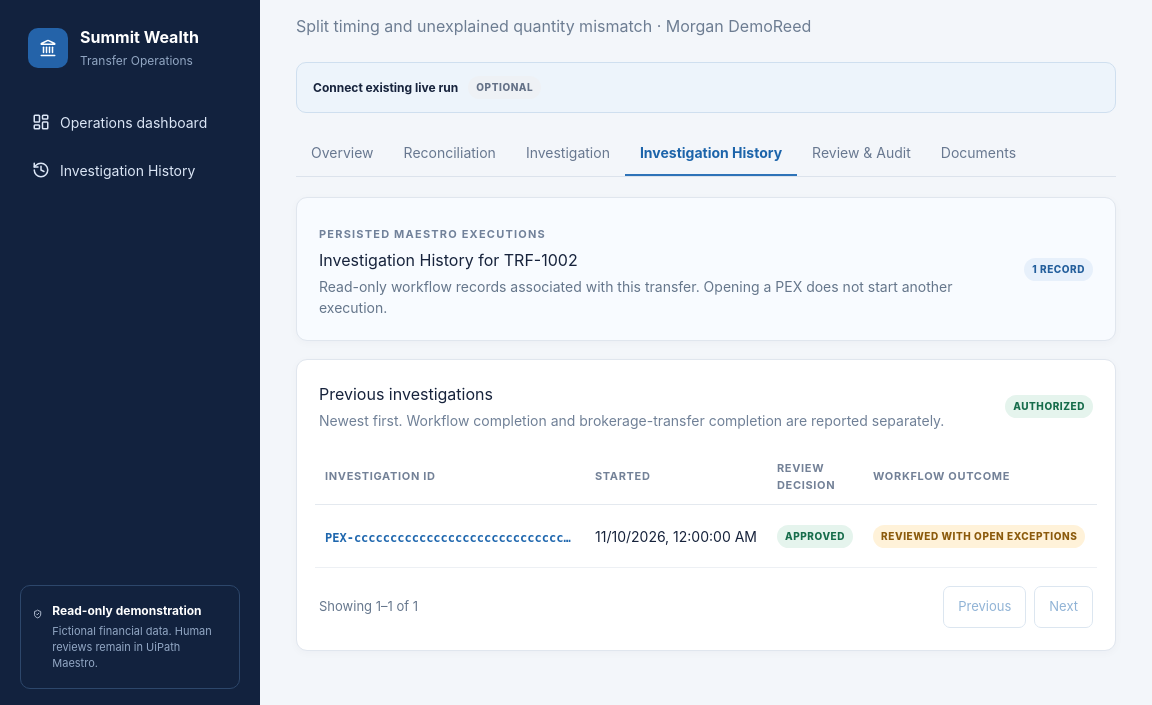
Operations portal › loads only the selected transfer history and opens its existing PEX timeline
(page scrolled)
Expected: the heading "Investigation History for TRF-1002" is shown, [319,250,578,270]
Expected: the text "APPROVED" is shown, [777,525,853,548]
Click the link "PEX-cccccccccccccccccccccccccccccccc" at (450, 538), box [325,529,575,547]
(page scrolled)
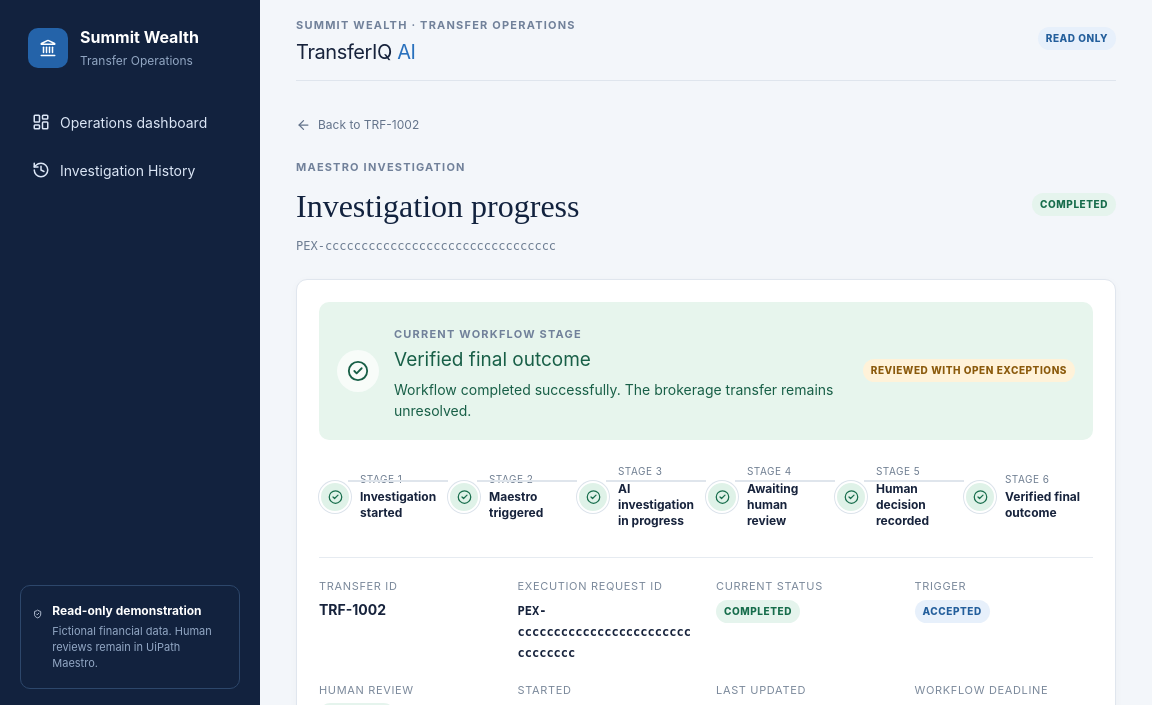
Expected: the heading "Investigation progress" is shown, [296,182,580,230]
